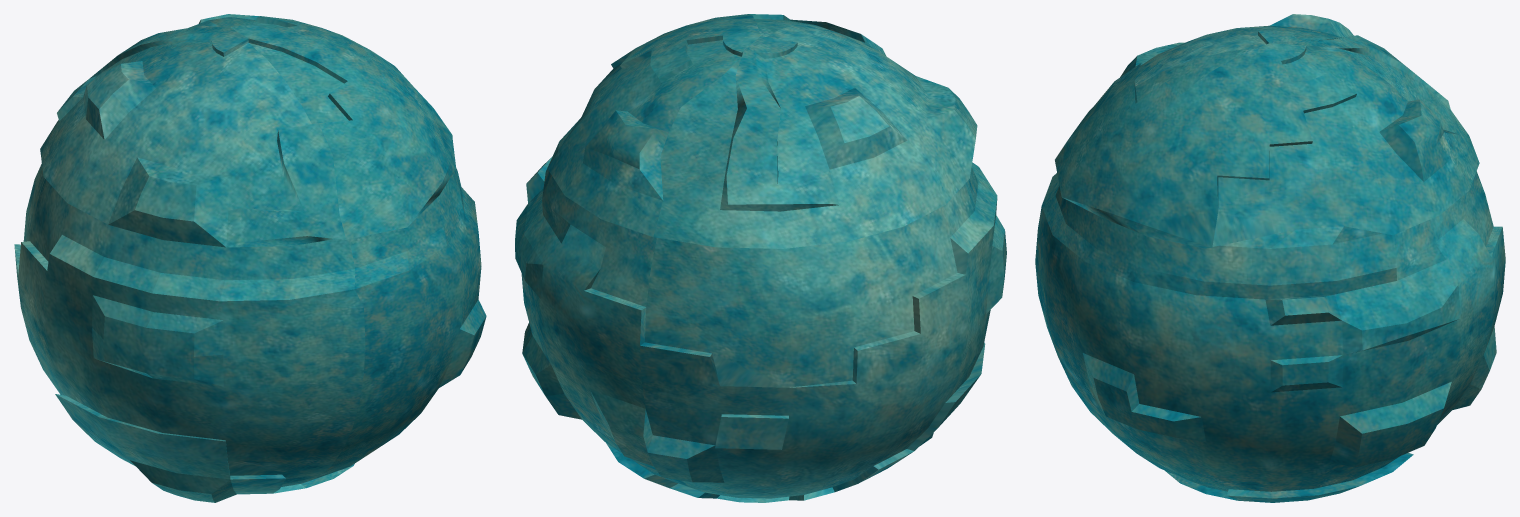
Rendered from blue planet.fbx.
The picture shows the model from 3 angles, left to right: view 1: azimuth 30°, elevation 25°; view 2: azimuth 150°, elevation 25°; view 3: azimuth 270°, elevation 25°; orthographic projection. The views are drawn at different scales.
Parts seen in each view (by area): view 1: pSphere2; view 2: pSphere2; view 3: pSphere2.
Part boxes in pixels (left/top/right/bottom): pSphere2: left=14, top=14, right=486, bottom=502; pSphere2: left=515, top=14, right=1006, bottom=502; pSphere2: left=1035, top=14, right=1505, bottom=502.
Bounding box in the file's own units: 9.82 × 9.95 × 9.76.
1 material, 1 textured.
